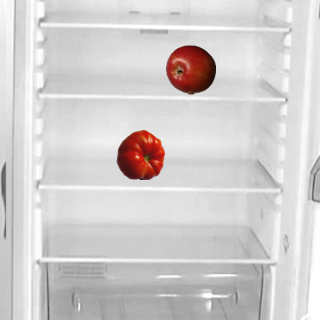Apple Braeburn: (165, 44, 215, 94)
Tomato 3: (115, 129, 165, 179)
